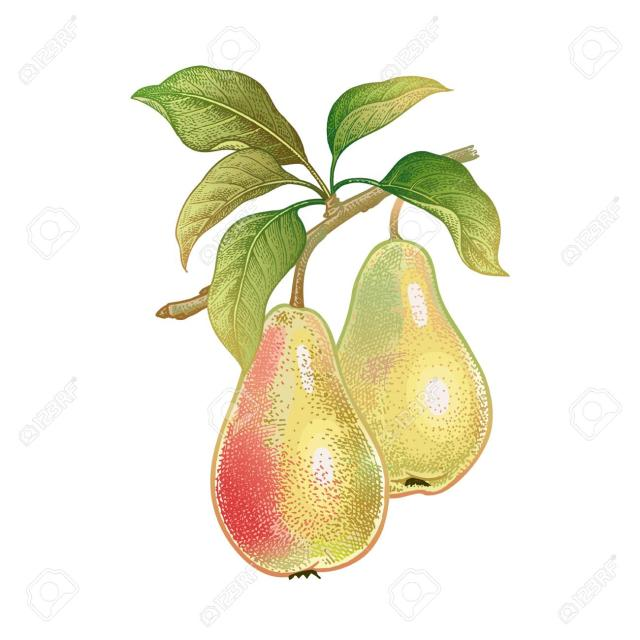pera: (197, 292, 399, 582), (318, 225, 500, 512)
